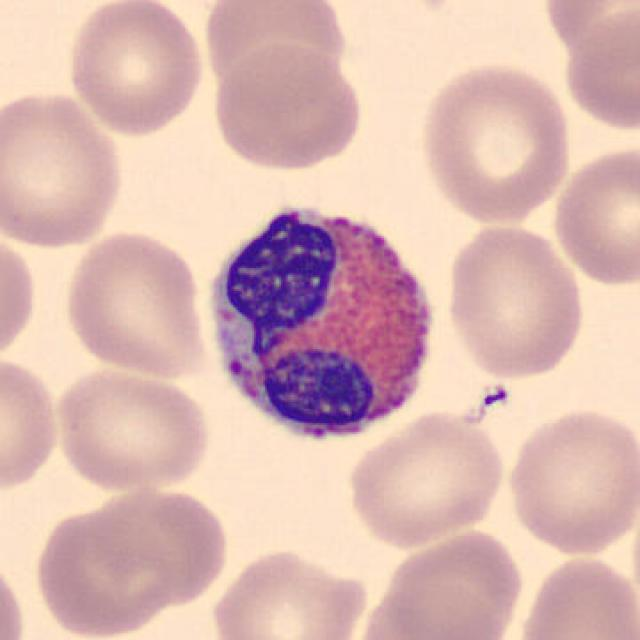Eosinophil: (196, 187, 448, 458)
RBC: (28, 485, 226, 638), (414, 58, 576, 226), (441, 218, 588, 382), (342, 406, 508, 550), (59, 227, 213, 381), (48, 363, 215, 494), (206, 39, 366, 174), (0, 87, 130, 252), (502, 402, 638, 559), (62, 0, 208, 139), (377, 523, 528, 640), (197, 0, 354, 108), (206, 543, 370, 640), (548, 141, 638, 289), (512, 550, 638, 640), (556, 2, 640, 136), (348, 578, 508, 640), (0, 351, 64, 497), (539, 0, 638, 69), (0, 224, 39, 368), (0, 548, 28, 639)
